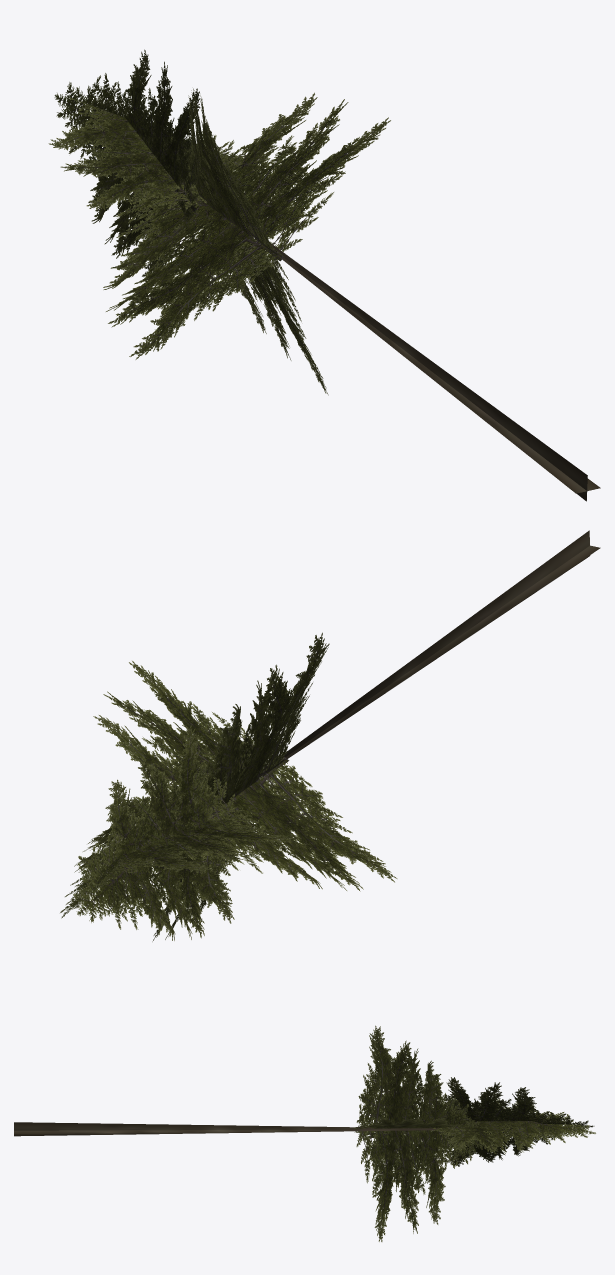
The model's file is MEP_Con_01_d_LOD_02.fbx.
3 views of the same model, one above another, from view 1: azimuth 30°, elevation 25°; view 2: azimuth 150°, elevation 25°; view 3: azimuth 270°, elevation 25° (orthographic). The views are drawn at different scales.
Parts seen in each view (by area): view 1: MEP_Con_01_d_LOD_02; view 2: MEP_Con_01_d_LOD_02; view 3: MEP_Con_01_d_LOD_02.
Part boxes in pixels (<box>): MEP_Con_01_d_LOD_02: <box>48,49,600,501</box>; MEP_Con_01_d_LOD_02: <box>60,530,600,941</box>; MEP_Con_01_d_LOD_02: <box>14,1025,595,1241</box>.
Bounding box in the file's own units: 10.21 × 12.54 × 32.2.
